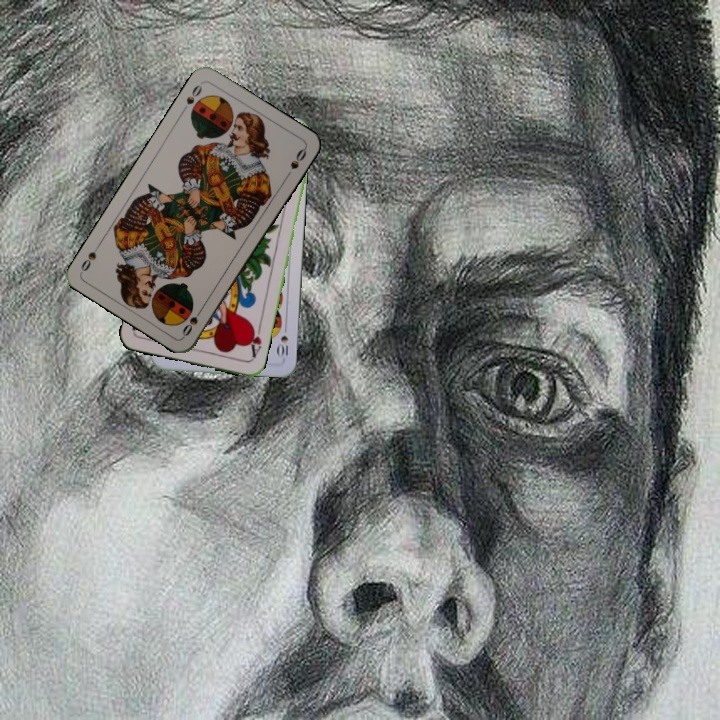HA: (245, 321, 264, 361)
S10: (274, 321, 291, 359)
SO: (178, 303, 206, 339), (178, 78, 205, 115)
